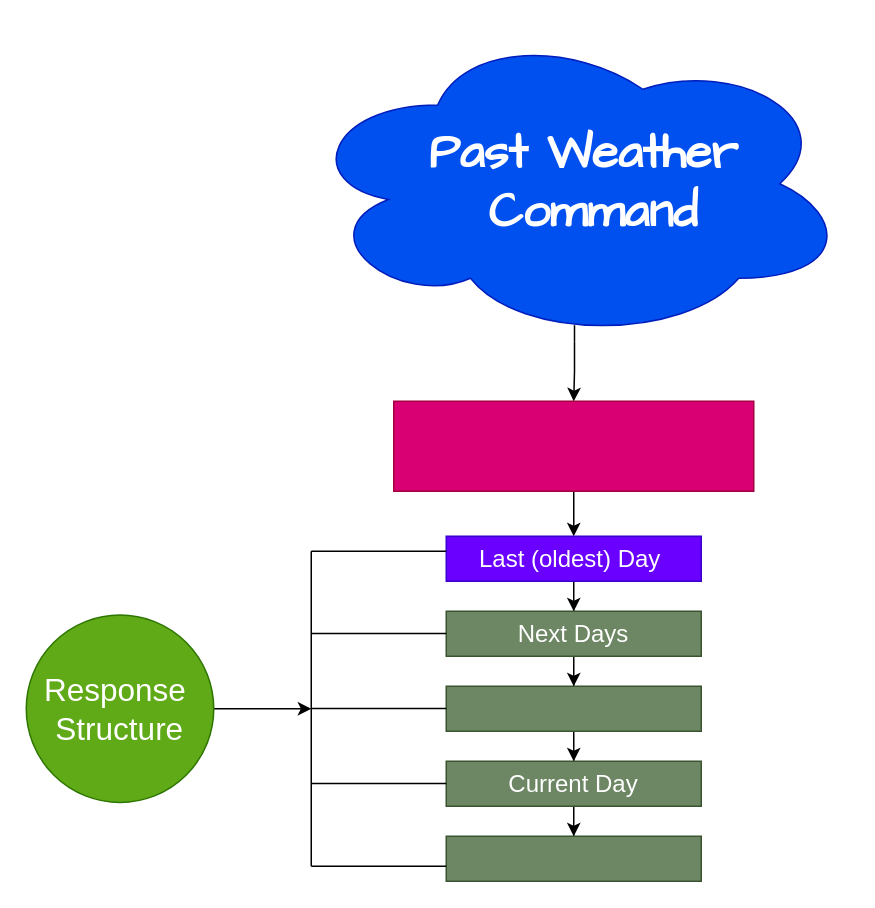
Image size: 875x908. Some labels were removed from this diagram. The centre of each missing label's shape, as x and y in pixels:
!past "City" "d": the point at 573,445
Last n days in City, Time: the point at 573,858
Most Recent Day: the point at 573,708
